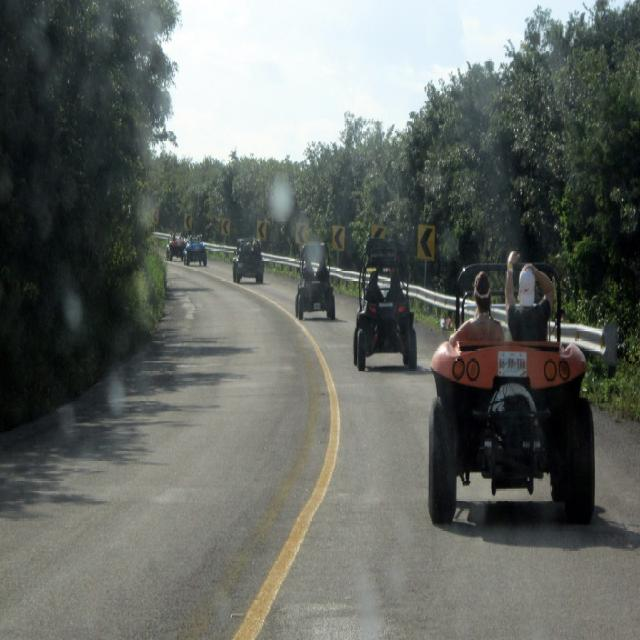car: (353, 234, 416, 369), (294, 239, 334, 319), (182, 230, 205, 263)
